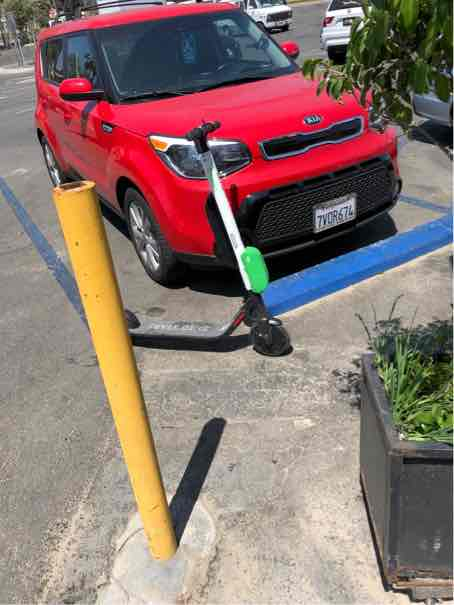scooter: (120, 113, 295, 373)
